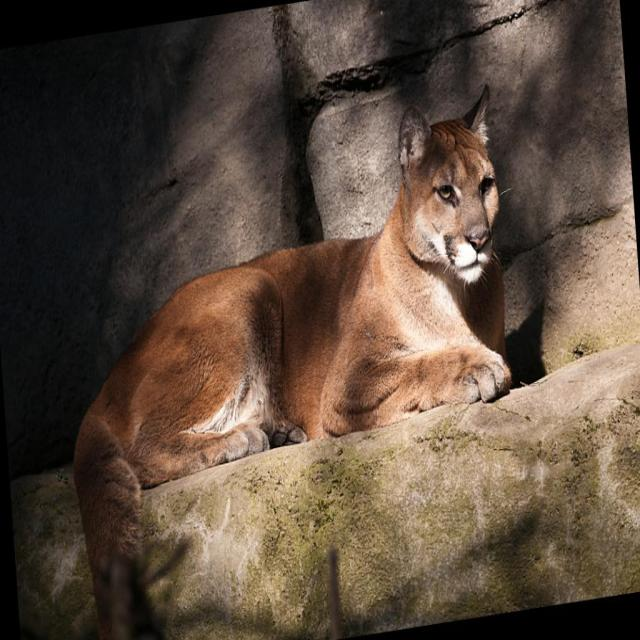Lion: (51, 80, 542, 639)
